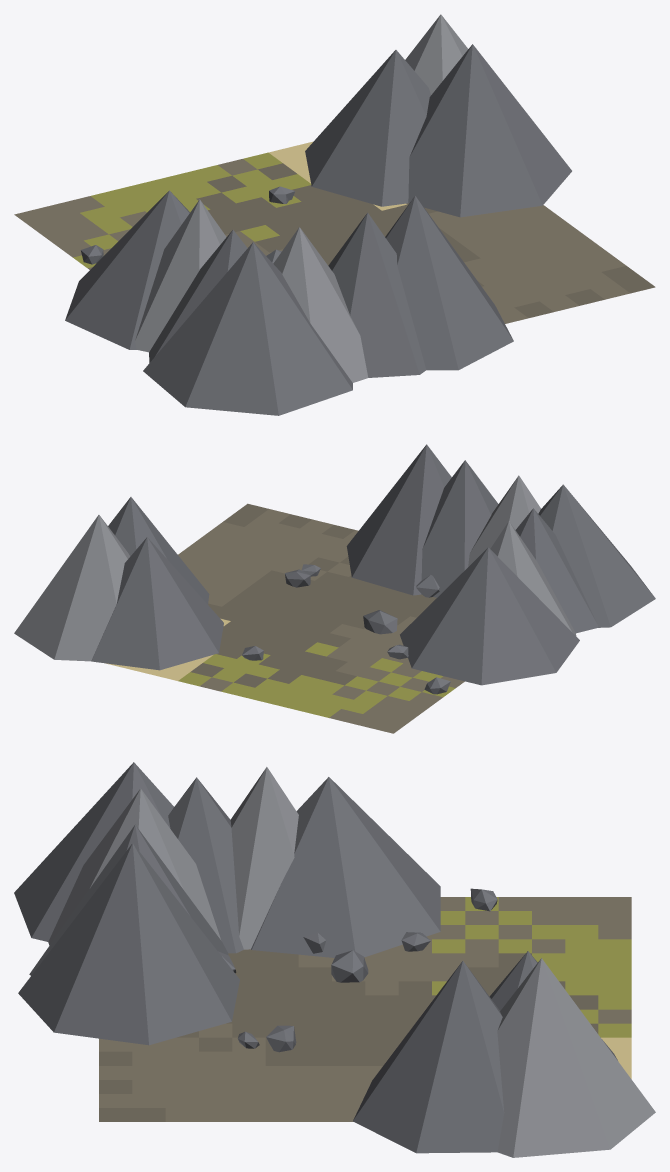
The model's file is chunk_11_18.glb.
3 views of the same model, one above another, from view 1: azimuth 30°, elevation 25°; view 2: azimuth 150°, elevation 25°; view 3: azimuth 270°, elevation 25° (orthographic). The views are drawn at different scales.
Parts seen in each view (by area): view 1: chunk_11_18; view 2: chunk_11_18; view 3: chunk_11_18.
Boxes of the visible parts, x1,y1,x2,y2 form: chunk_11_18: [14, 14, 655, 415]; chunk_11_18: [14, 444, 655, 733]; chunk_11_18: [14, 762, 655, 1157].
Size of the model in its own units: 21.32 by 5.58 by 19.28.
